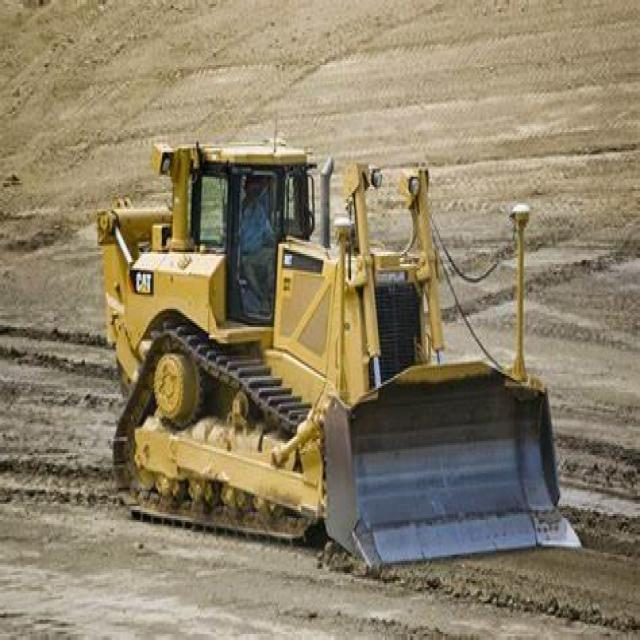buldozerpayloadergrader: (67, 98, 574, 589)
